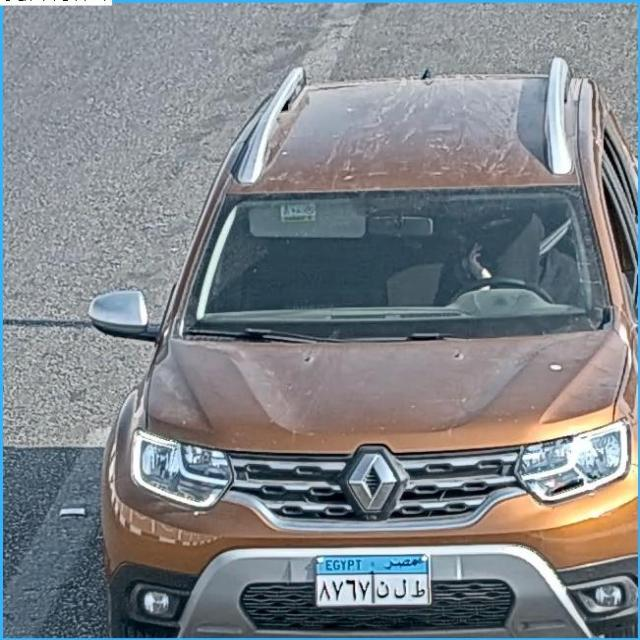Seat_belt: (392, 190, 593, 326)
